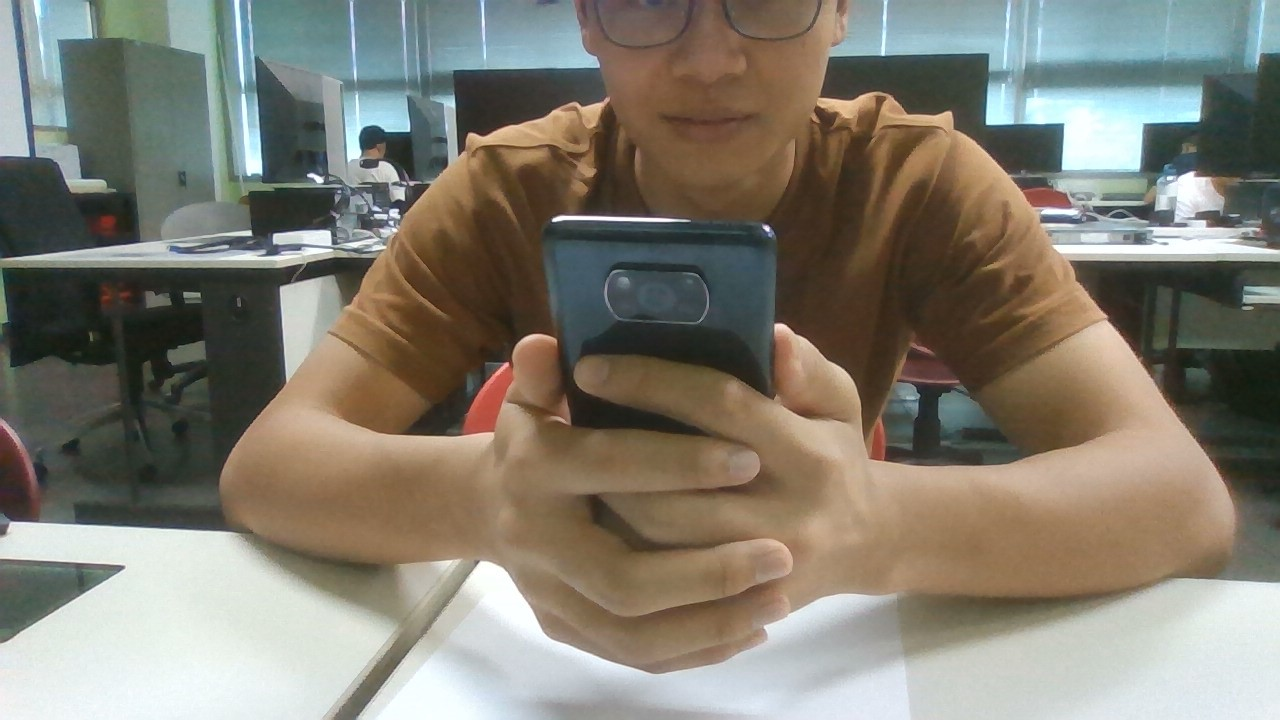phone: (539, 214, 777, 443)
